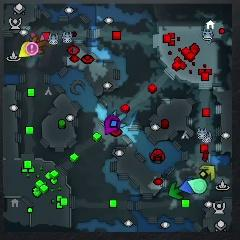Other: (26, 42, 38, 56)
p1: (179, 179, 193, 193)
p2: (187, 178, 207, 194)
p3: (105, 116, 121, 135)
p4: (19, 41, 31, 58)
x1: (30, 31, 45, 41)
x2: (200, 165, 215, 181)
x3: (112, 110, 126, 127)
x4: (168, 182, 183, 199)
x5: (31, 37, 47, 54)
